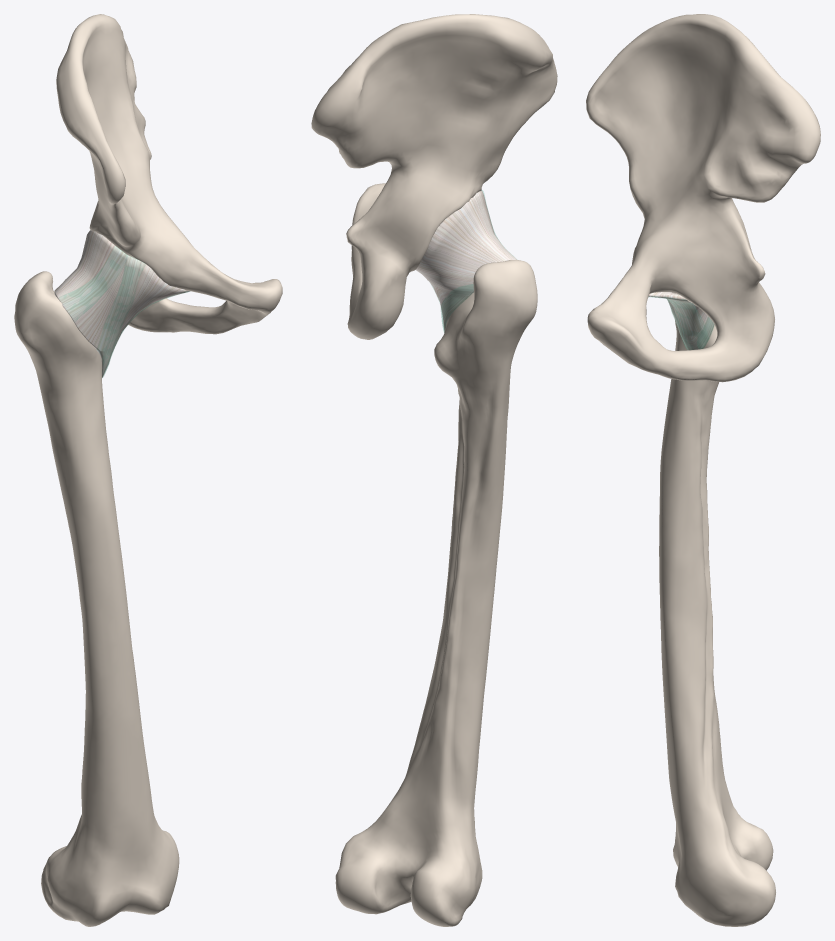
File: hip-joint.glb
3 renders of one model, left to right at view 1: azimuth 30°, elevation 25°; view 2: azimuth 150°, elevation 25°; view 3: azimuth 270°, elevation 25°, orthographic. The views are drawn at different scales.
Parts seen in each view (by area): view 1: Femur.r, Hip bone.r, Hip joint capsule.r, Descending part of Iliofemoral ligament.r, Transverse part of Iliofemoral ligament.r; view 2: Femur.r, Hip bone.r, Hip joint capsule.r, Zona orbicularis of hip joint.r; view 3: Hip bone.r, Femur.r, Hip joint capsule.r.
Boxes of the visible parts, x1,y1,x2,y2 form: Femur.r: [14, 271, 179, 926]; Hip bone.r: [56, 14, 282, 334]; Hip joint capsule.r: [54, 230, 189, 377]; Descending part of Iliofemoral ligament.r: [97, 256, 144, 377]; Transverse part of Iliofemoral ligament.r: [63, 246, 125, 320]; Femur.r: [335, 260, 537, 926]; Hip bone.r: [311, 14, 557, 339]; Hip joint capsule.r: [415, 191, 516, 332]; Zona orbicularis of hip joint.r: [441, 284, 473, 331]; Hip bone.r: [586, 14, 820, 382]; Femur.r: [659, 320, 775, 926]; Hip joint capsule.r: [648, 292, 714, 350].
Bounding box in the file's own units: 0.1453 × 0.5789 × 0.1417.
Materials: 7 (2 with a texture image).
